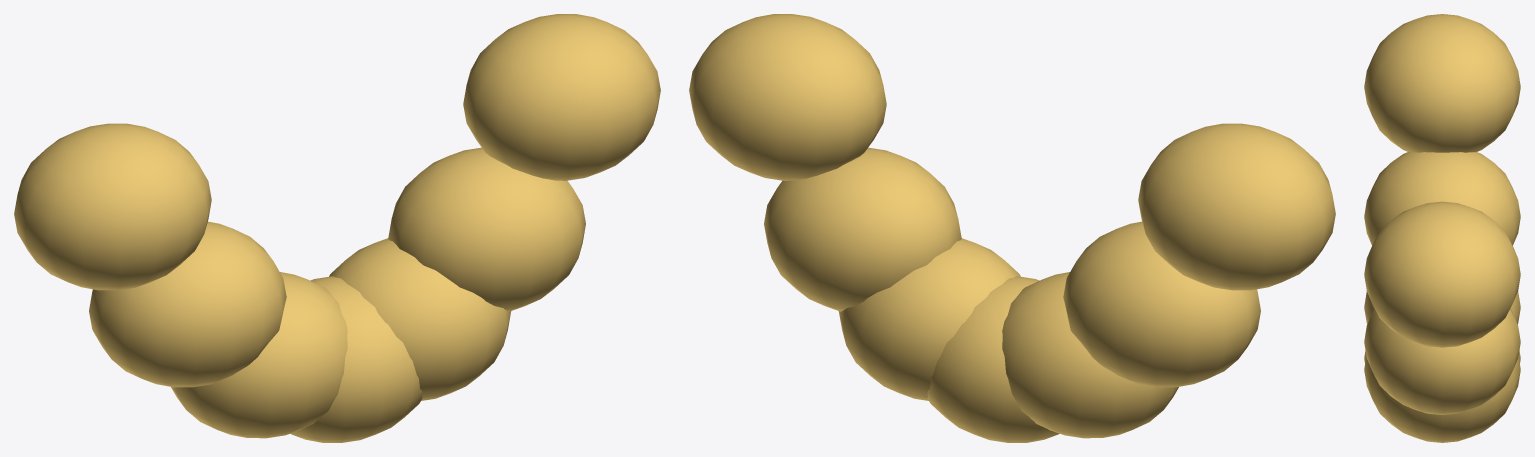
File: banana.glb
3 views of the same model, side by side, from view 1: azimuth 30°, elevation 25°; view 2: azimuth 150°, elevation 25°; view 3: azimuth 270°, elevation 25° (orthographic). The views are drawn at different scales.
Visible parts, largest first — view 1: banana; view 2: banana; view 3: banana.
Part boxes in pixels (x1,y1,x2,y2): banana: (14, 14, 660, 442); banana: (689, 14, 1335, 442); banana: (1364, 14, 1520, 442).
Size of the model in its own units: 1.42 by 0.77 by 0.36.
